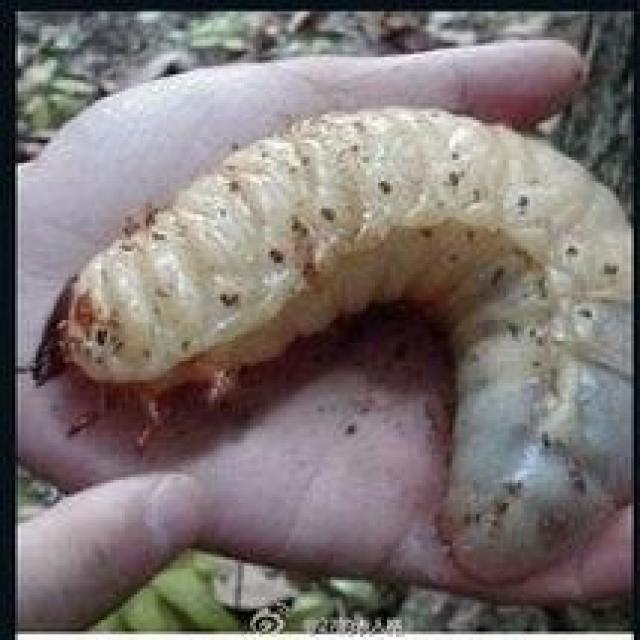Grub-Adult-: (49, 80, 637, 586)
